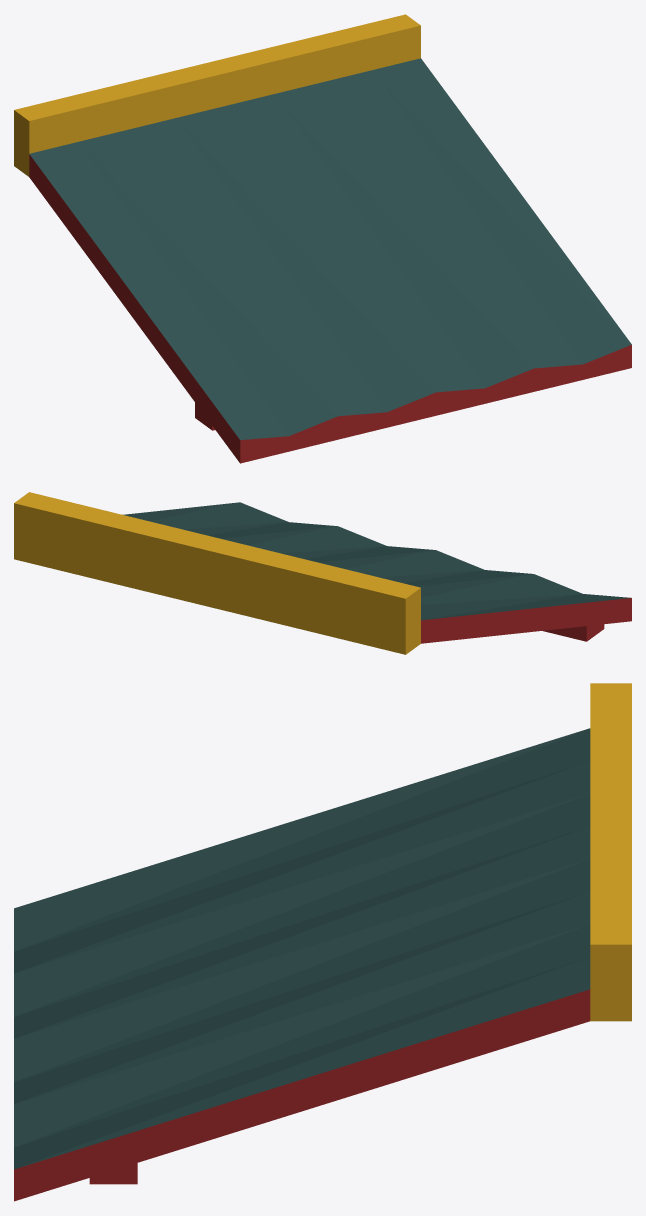
File: Asian_Prop_Building_Modular_Roof_Edge_01.FBX
The picture shows the model from 3 angles, top to bottom: view 1: azimuth 30°, elevation 25°; view 2: azimuth 150°, elevation 25°; view 3: azimuth 270°, elevation 25°; orthographic projection. The views are drawn at different scales.
Visible parts, largest first — view 1: Asian_Prop_Building_Modular_Roof_Edge_01; view 2: Asian_Prop_Building_Modular_Roof_Edge_01; view 3: Asian_Prop_Building_Modular_Roof_Edge_01.
Part boxes in pixels (x1=…): Asian_Prop_Building_Modular_Roof_Edge_01: x1=14, y1=14, x2=631, y2=463; Asian_Prop_Building_Modular_Roof_Edge_01: x1=14, y1=492, x2=631, y2=654; Asian_Prop_Building_Modular_Roof_Edge_01: x1=14, y1=683, x2=631, y2=1201.
Size of the model in its own units: 6459 by 2963 by 6459.
